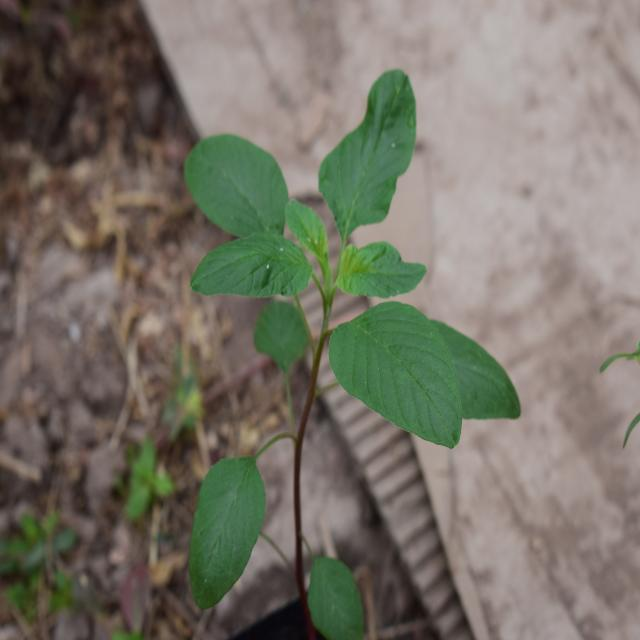pigweed: (153, 84, 518, 574)
